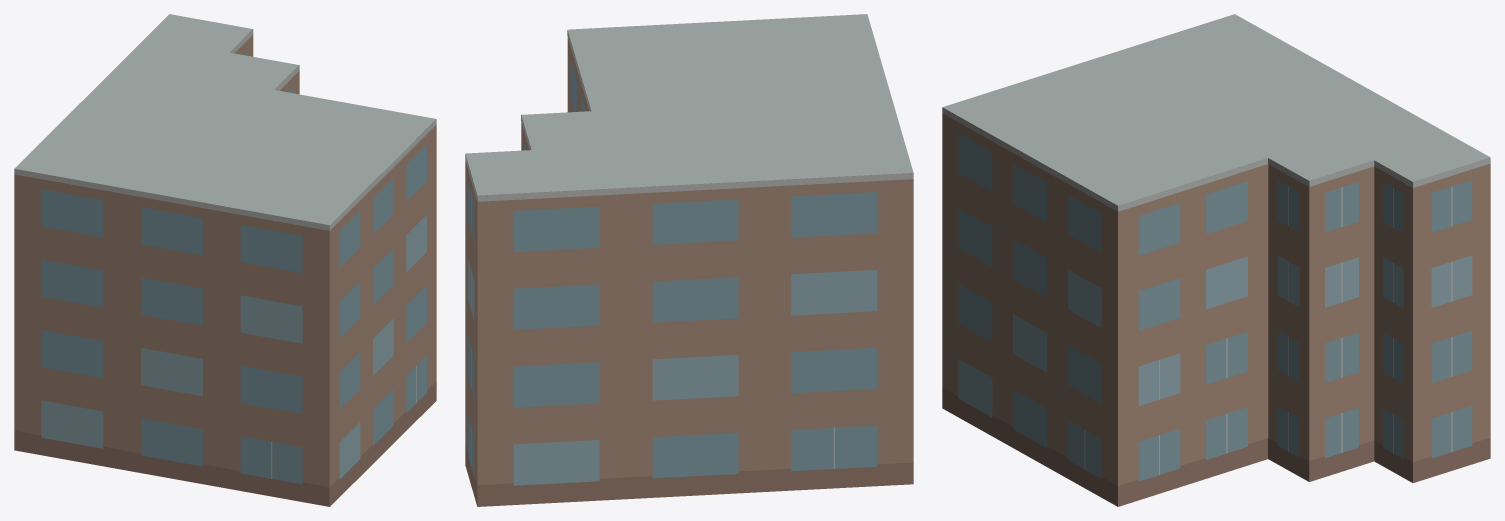
Rendered from residential-0378eadb-1984-46ac-84e7-f7754528a3e1.glb.
3 views of the same model, side by side, from view 1: azimuth 30°, elevation 25°; view 2: azimuth 150°, elevation 25°; view 3: azimuth 270°, elevation 25° (orthographic). The views are drawn at different scales.
Parts seen in each view (by area): view 1: residential-0378eadb-1984-46ac-84e7-f7754528a3e1.tmp; view 2: residential-0378eadb-1984-46ac-84e7-f7754528a3e1.tmp; view 3: residential-0378eadb-1984-46ac-84e7-f7754528a3e1.tmp.
Part boxes in pixels (x1,y1,x2,y2): residential-0378eadb-1984-46ac-84e7-f7754528a3e1.tmp: (14, 14, 436, 506); residential-0378eadb-1984-46ac-84e7-f7754528a3e1.tmp: (465, 14, 913, 506); residential-0378eadb-1984-46ac-84e7-f7754528a3e1.tmp: (942, 14, 1490, 506).
Bounding box in the file's own units: 16.68 × 12.2 × 20.15.
